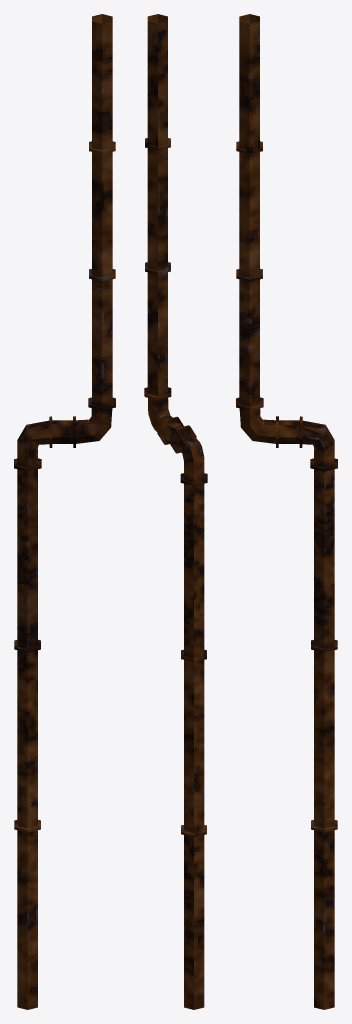
Rendered from Pipe00.glb.
3 renders of one model, left to right at view 1: azimuth 90°, elevation 25°; view 2: azimuth 210°, elevation 25°; view 3: azimuth 270°, elevation 25°, orthographic. The views are drawn at different scales.
Parts seen in each view (by area): view 1: Pipe00; view 2: Pipe00; view 3: Pipe00.
Part boxes in pixels (x1,y1,x2,y2): Pipe00: [14, 14, 115, 1009]; Pipe00: [144, 14, 207, 1009]; Pipe00: [236, 14, 337, 1009].
Bounding box in the file's own units: 0.5586 × 19.1 × 1.79.
1 material, 1 textured.
